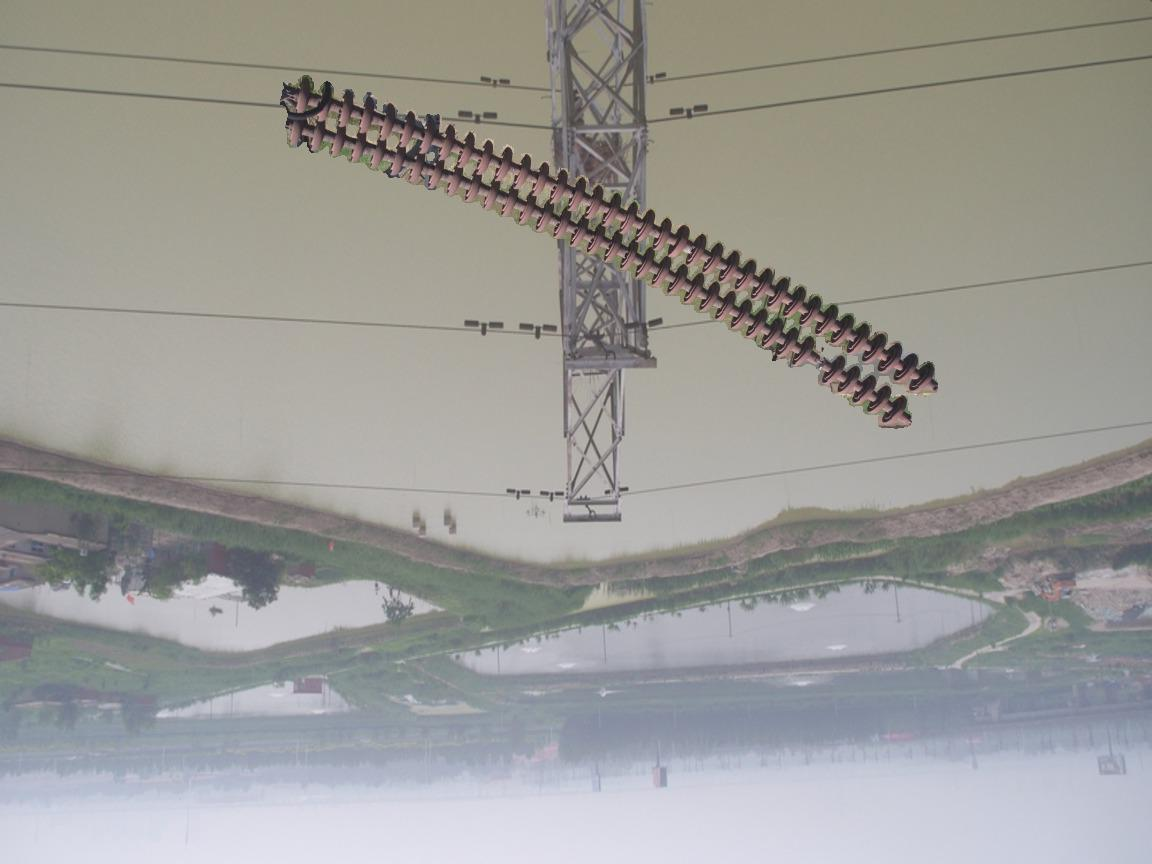insulator: (279, 71, 942, 435)
insulator_stringdrop: (786, 333, 848, 388)
